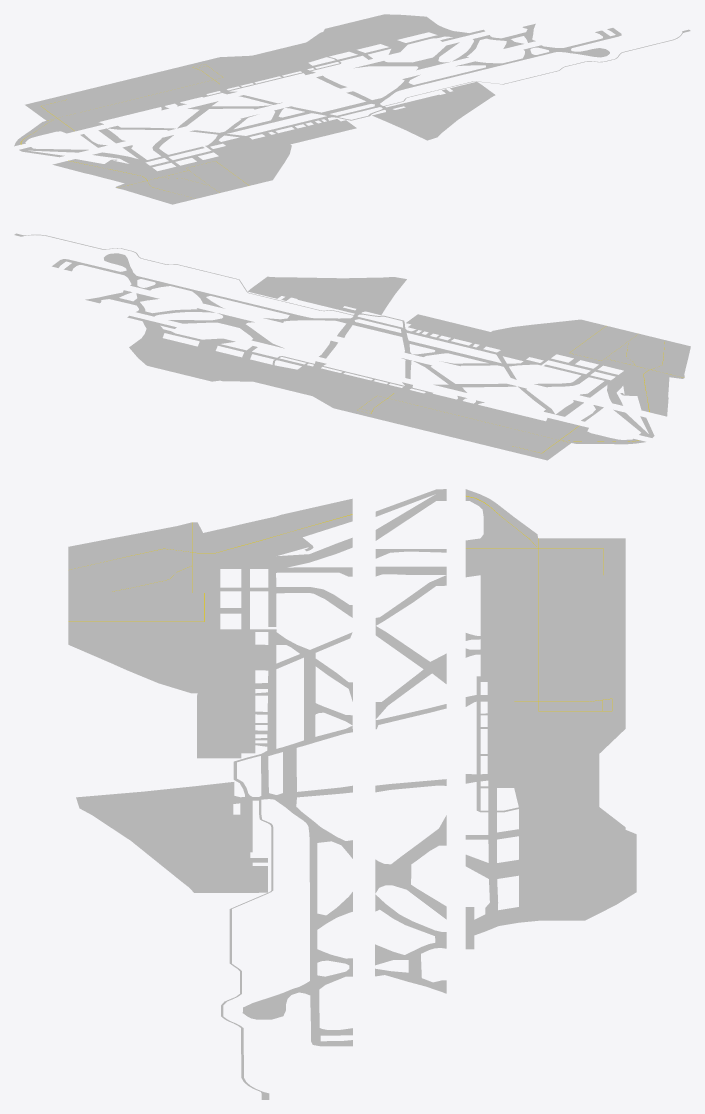
The model's file is Aeropuerto.fbx.
The picture shows the model from 3 angles, top to bottom: view 1: azimuth 30°, elevation 25°; view 2: azimuth 150°, elevation 25°; view 3: azimuth 270°, elevation 25°; orthographic projection. The views are drawn at different scales.
Visible parts, largest first — view 1: Zona_princiapl; view 2: Zona_princiapl; view 3: Zona_princiapl.
Boxes of the visible parts, x1,y1,x2,y2 form: Zona_princiapl: [14, 14, 690, 204]; Zona_princiapl: [14, 233, 690, 460]; Zona_princiapl: [68, 489, 636, 1099].
Size of the model in its own units: 652329 by 3.05e-05 by 256444.
